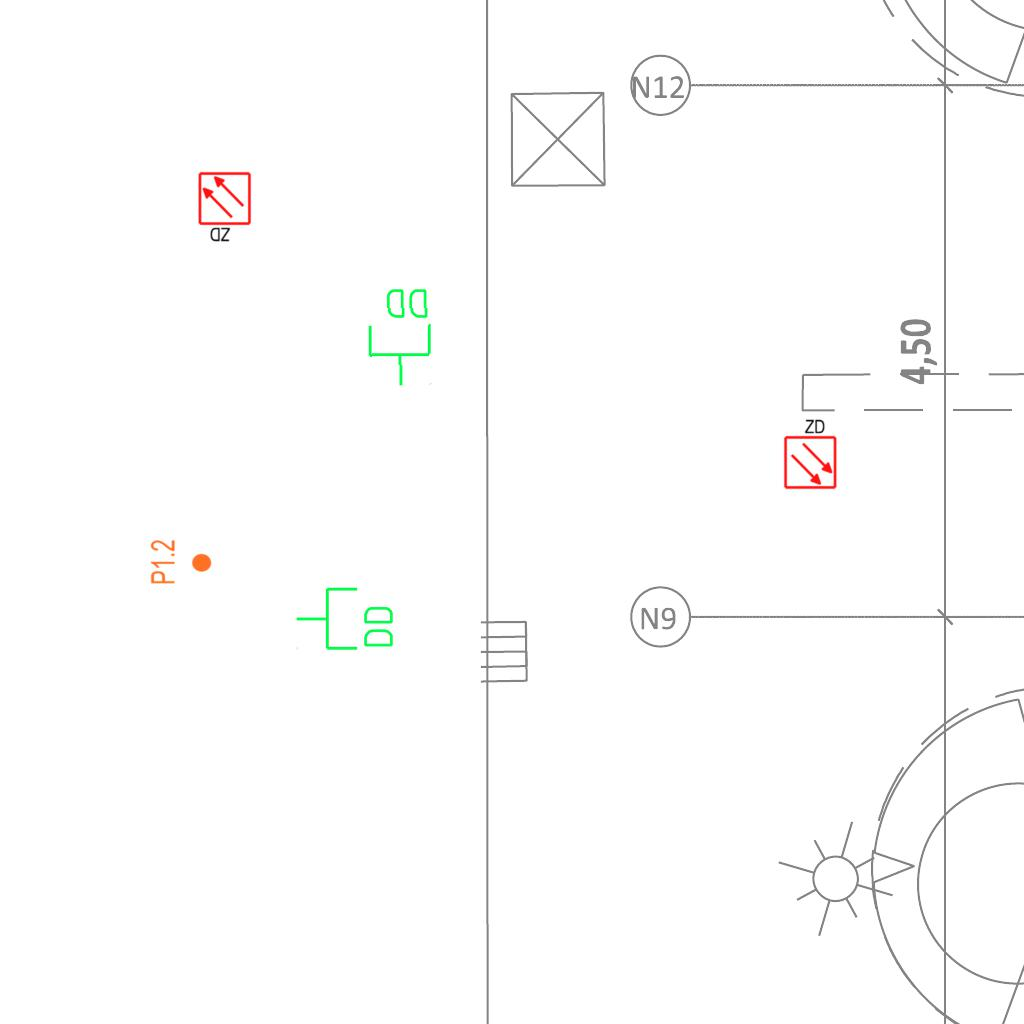Datenanschluss_zweifach: (365, 284, 436, 389), (294, 585, 397, 654)
Downlight_LED_Einbauleuchten_Flur: (149, 539, 213, 585)
ZD_Melder_in_Zwischendecke_mit_Revisionsoeffnung_mind_40_x_40_cm: (781, 416, 838, 490), (197, 171, 254, 245)
